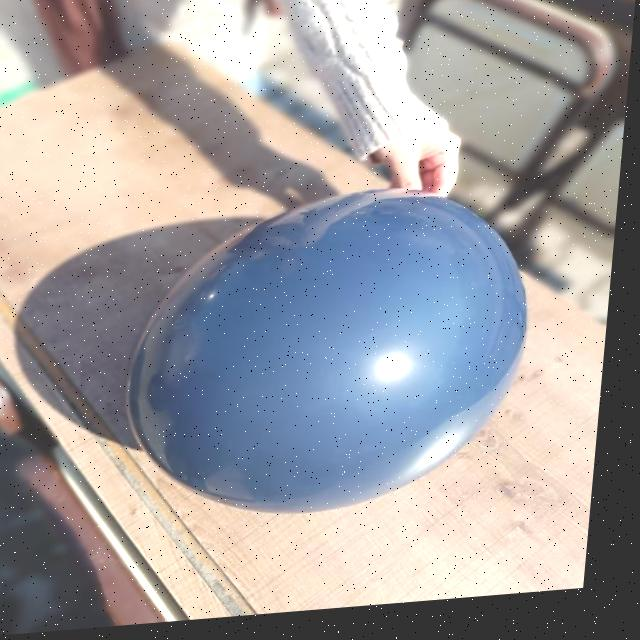balloon: (118, 192, 548, 534)
